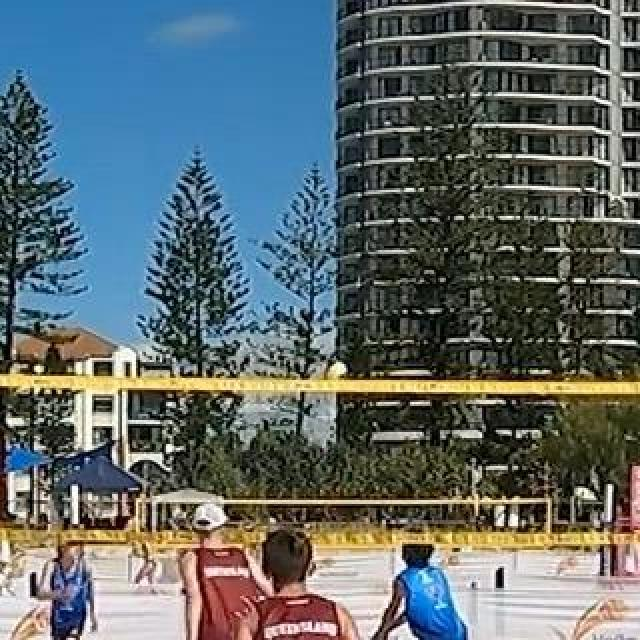volleyball: (319, 361, 347, 387)
